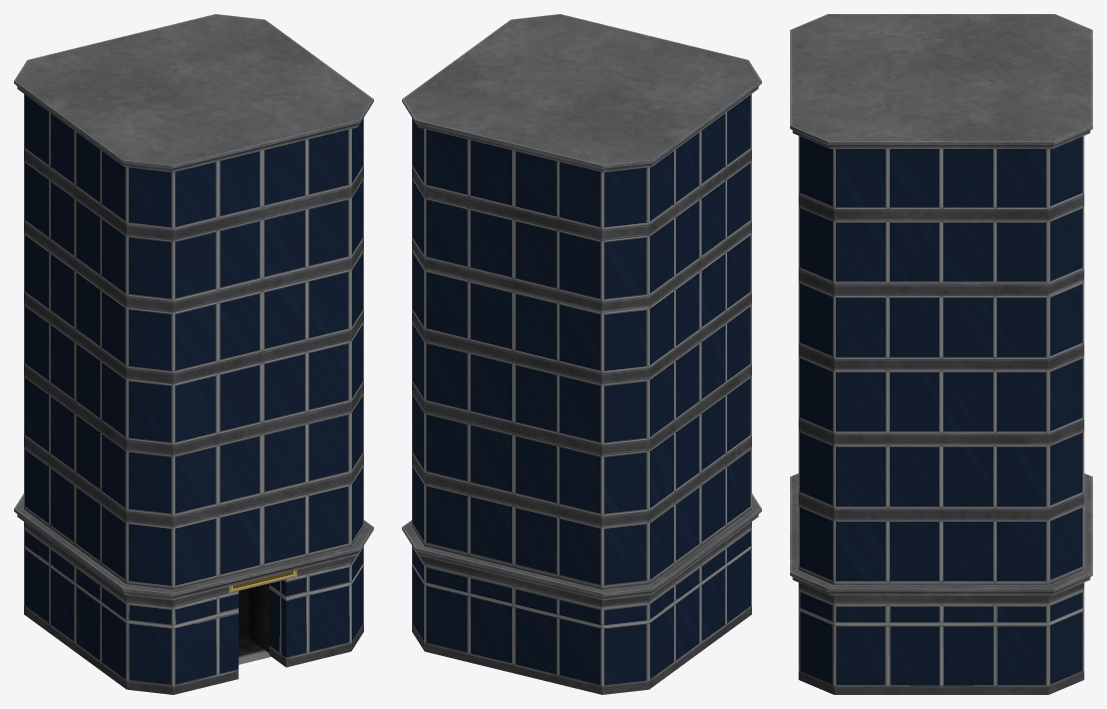
File: sb_obj_ModernCity003_buil_a3.fbx
3 views of the same model, side by side, from view 1: azimuth 30°, elevation 25°; view 2: azimuth 150°, elevation 25°; view 3: azimuth 270°, elevation 25° (orthographic). The views are drawn at different scales.
Parts seen in each view (by area): view 1: sb_obj_ModernCity003_buil_a3; view 2: sb_obj_ModernCity003_buil_a3; view 3: sb_obj_ModernCity003_buil_a3.
Part boxes in pixels (x1,y1,x2,y2): sb_obj_ModernCity003_buil_a3: (14, 14, 373, 694); sb_obj_ModernCity003_buil_a3: (402, 14, 761, 694); sb_obj_ModernCity003_buil_a3: (790, 14, 1092, 694).
Size of the model in its own units: 4.93 by 10 by 4.93.
